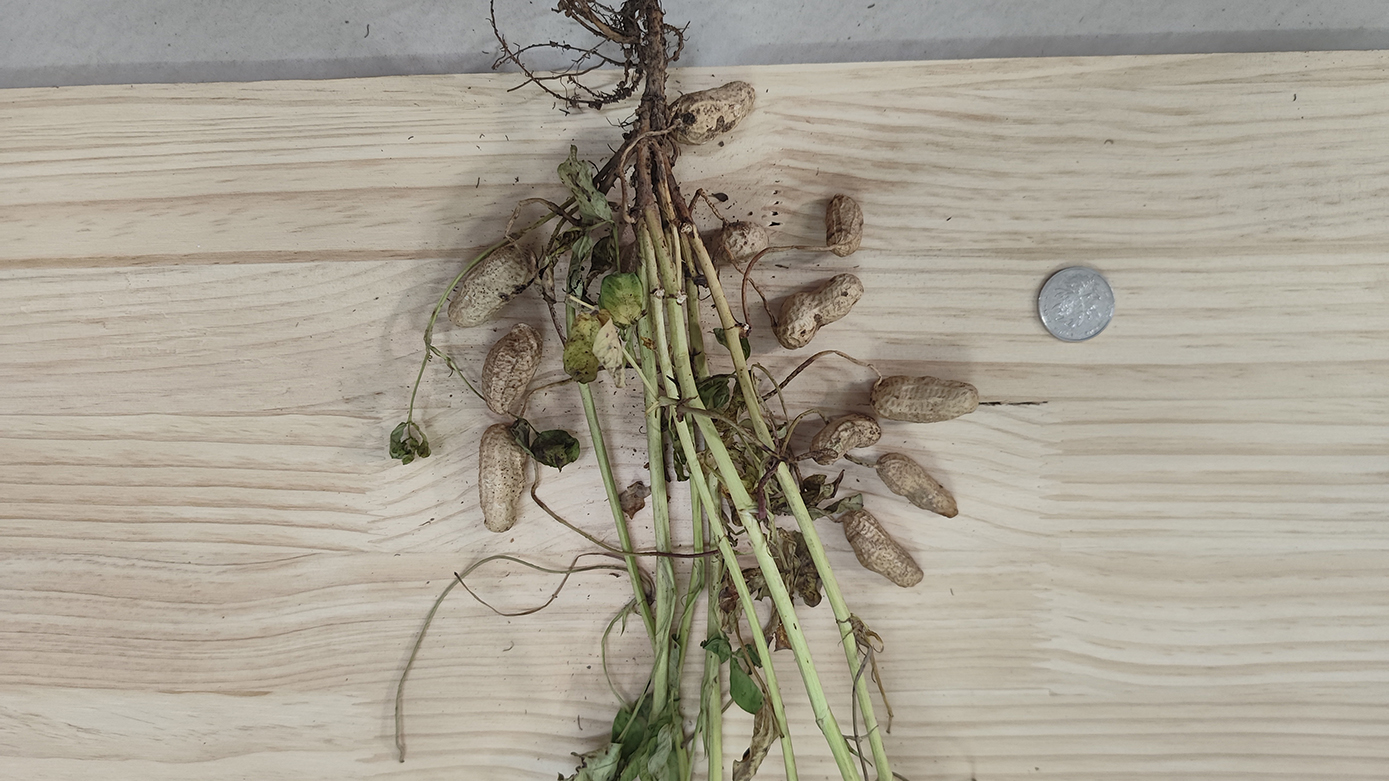h: (776, 271, 862, 350), (448, 245, 531, 326), (844, 509, 922, 591), (668, 82, 758, 145), (871, 372, 977, 423), (881, 452, 958, 519), (484, 326, 542, 414), (479, 425, 523, 534), (812, 411, 881, 460), (825, 192, 864, 257), (715, 222, 769, 262)
